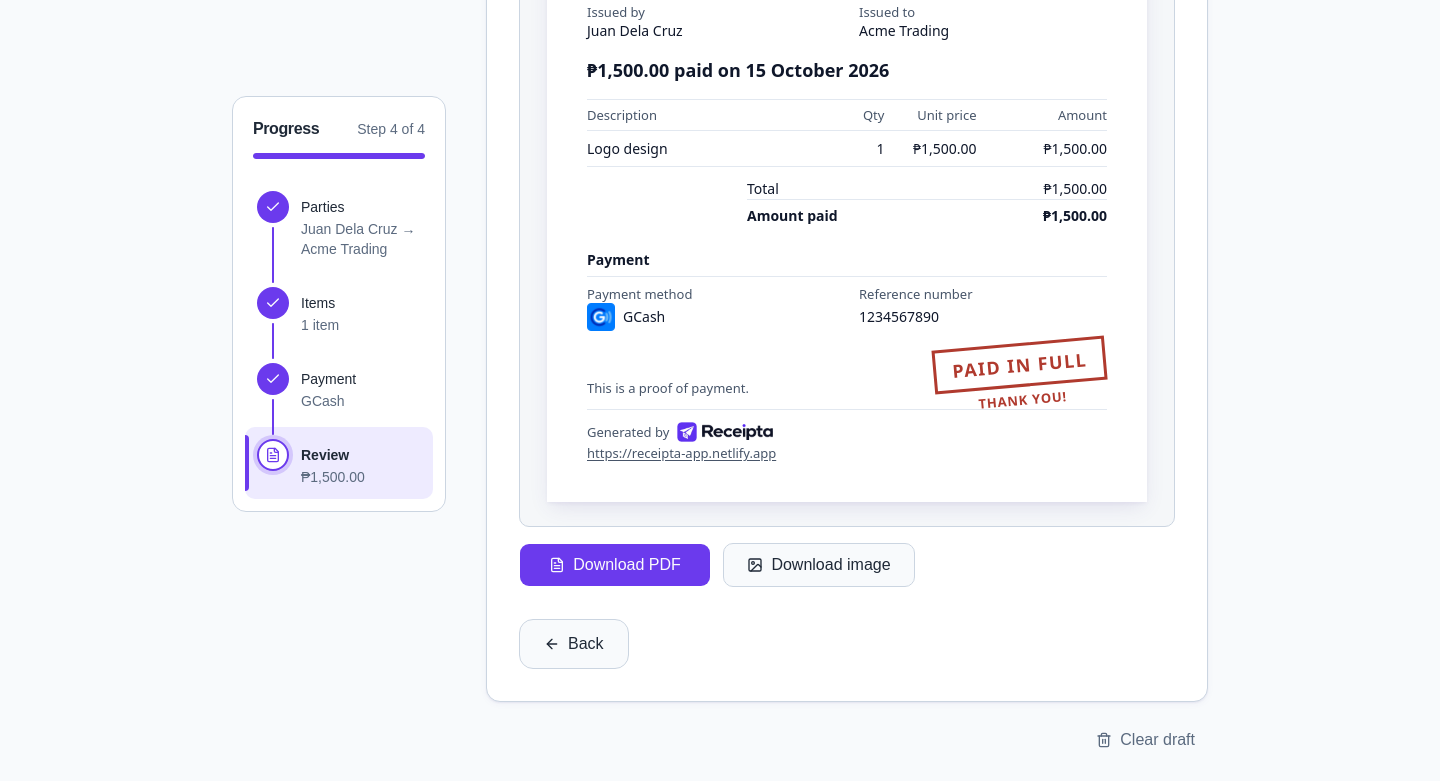
Test: the offer to start a new receipt › never appears after a failed image download
(page scrolled)
Click the button "Download image". click: {"x": 819, "y": 565}
box: [723,543,915,587]
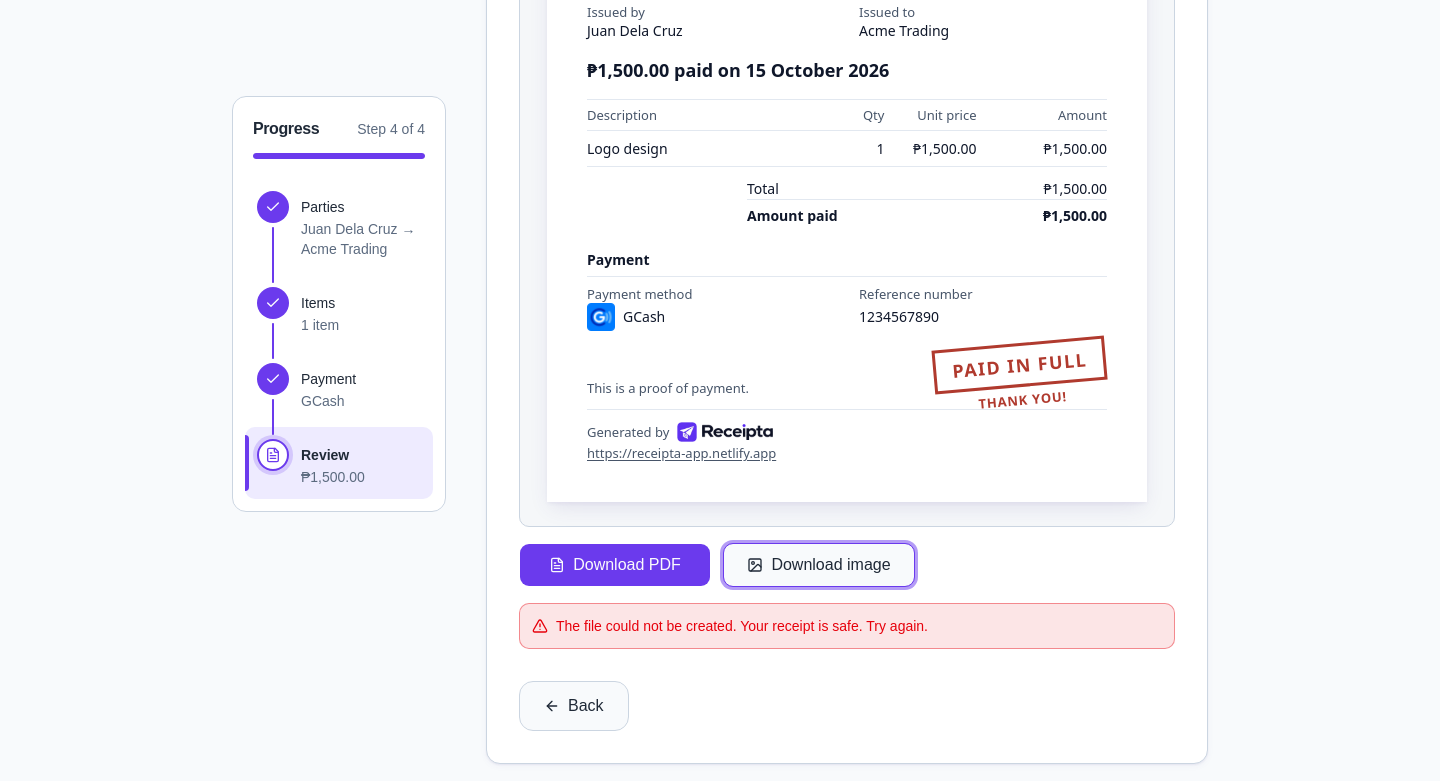
Expected: the message "The file could not be created. Your receipt is safe. Try again." is shown, [519,603,1175,649]
